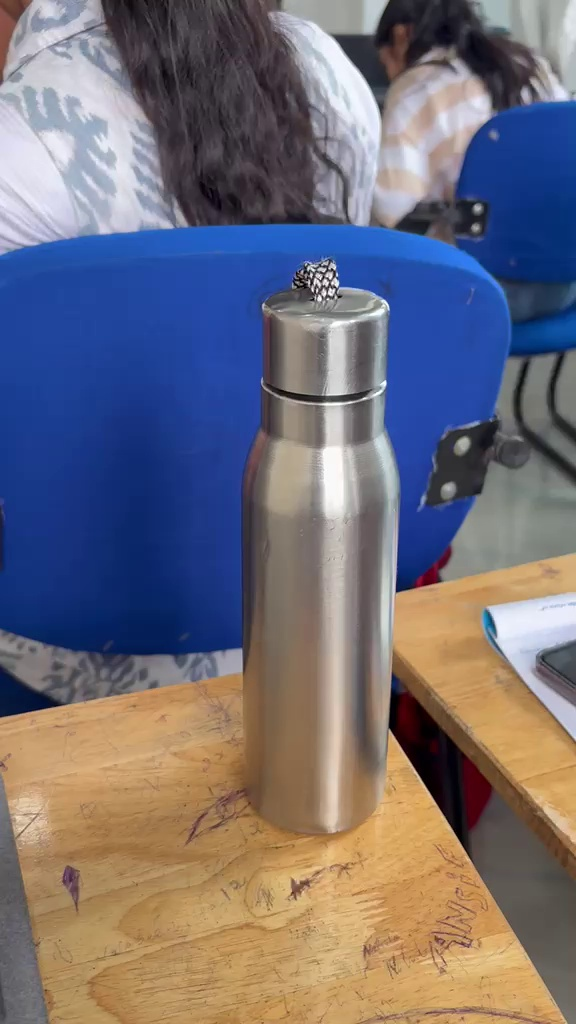Bottle: (230, 240, 400, 852), (232, 244, 387, 852)
